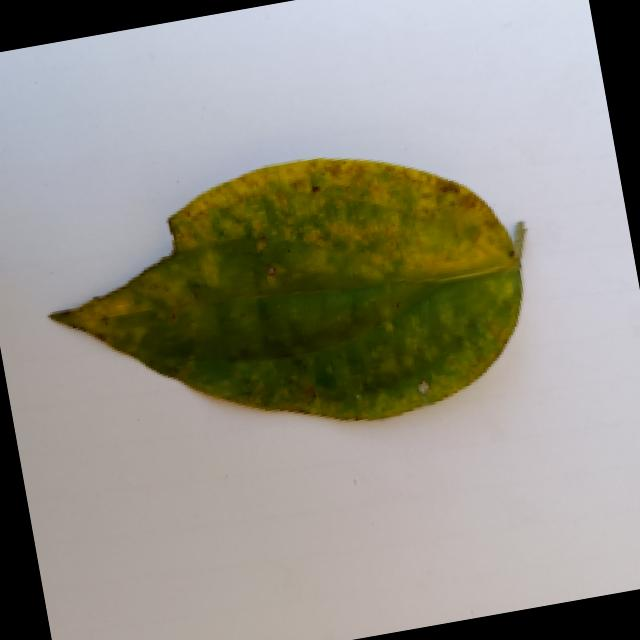slow-decline: (29, 124, 558, 475)
